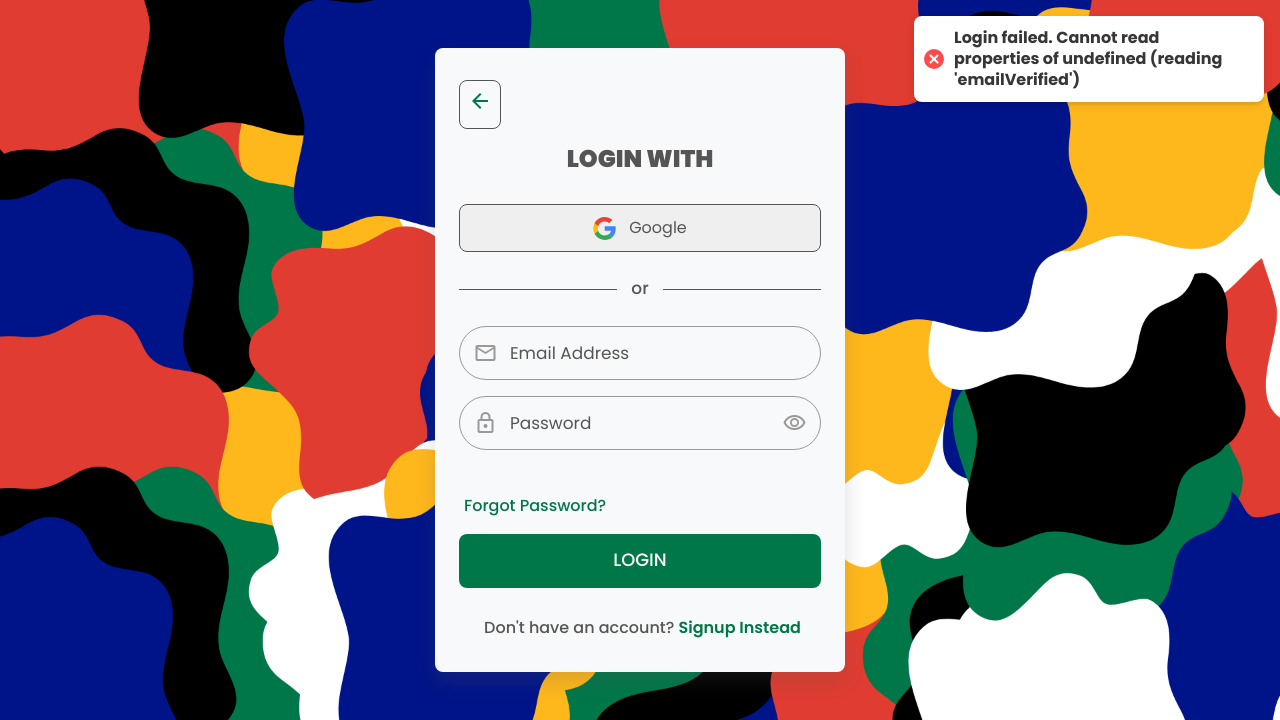
it: Sign In Page › should not navigate to dashboard on unsuccessful login with email and show an error toast
Type "wronguser@example.com" into the field with placeholder "Email Address" at (640, 353), box [459,326,821,380]
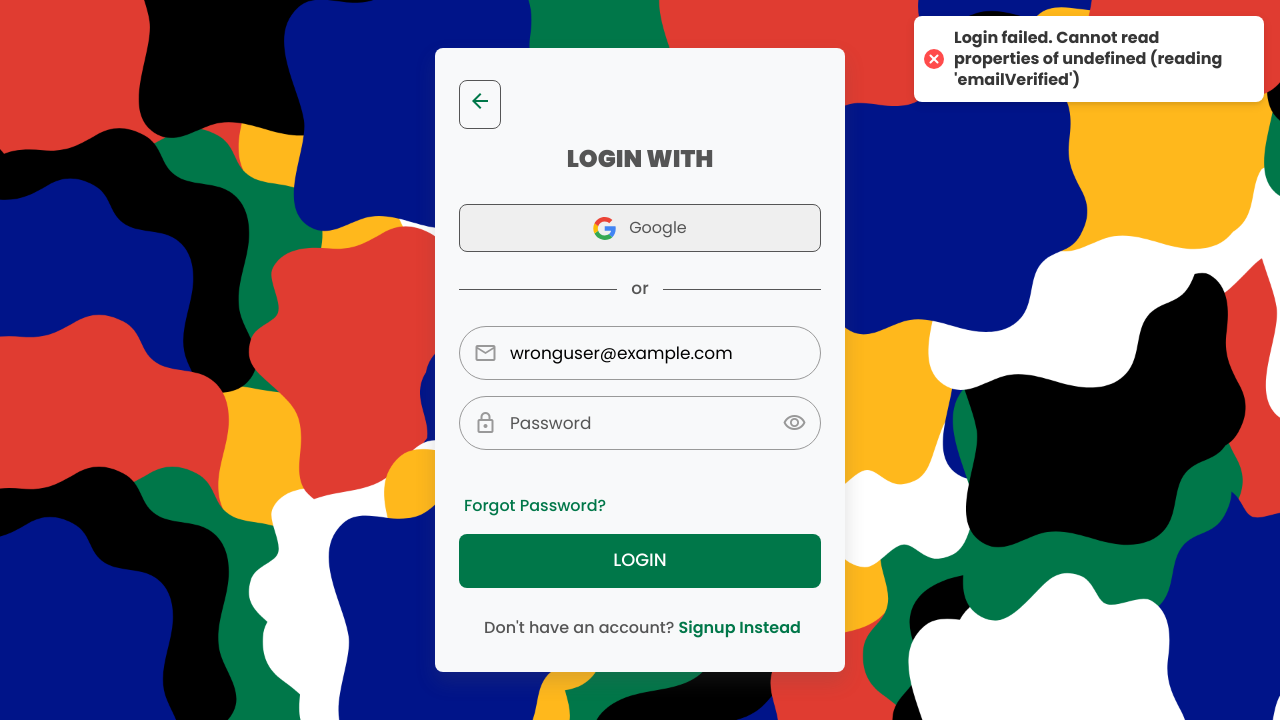
Type "wrongpassword" into the password field with placeholder "Password" at (640, 423), box [459,396,821,450]
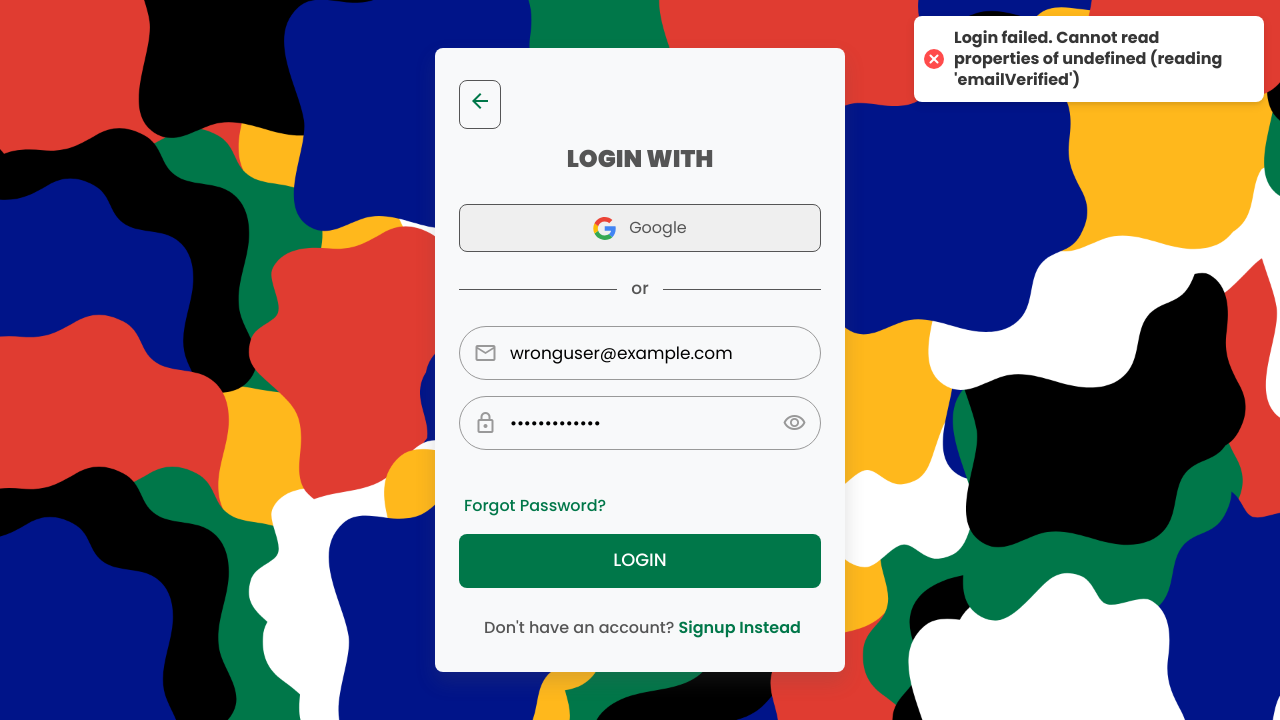
Click the button "Login" at (640, 561), box [459,534,821,588]
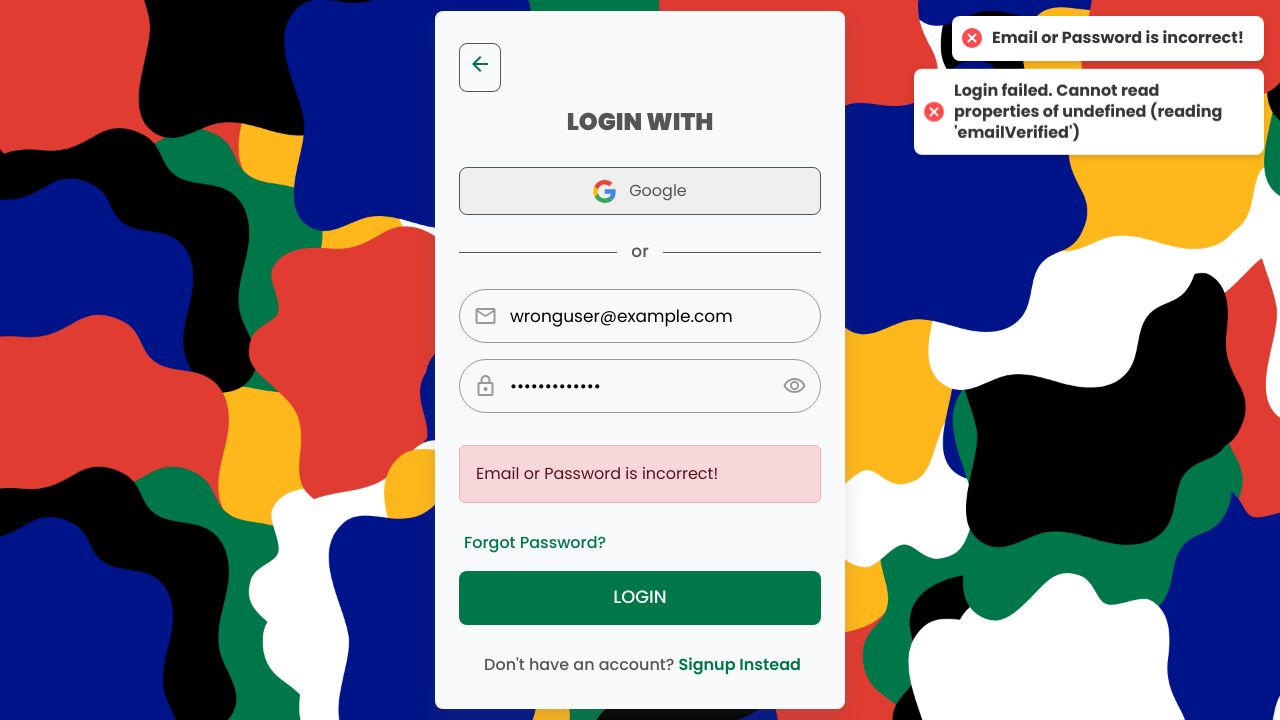
expect the text "Email or Password is incorrect!" is shown 2 times: met, box [992,28,1244,49]; [459,445,821,503]
expect the text "Email or Password is incorrect!" is shown: met, box [992,28,1244,49]
